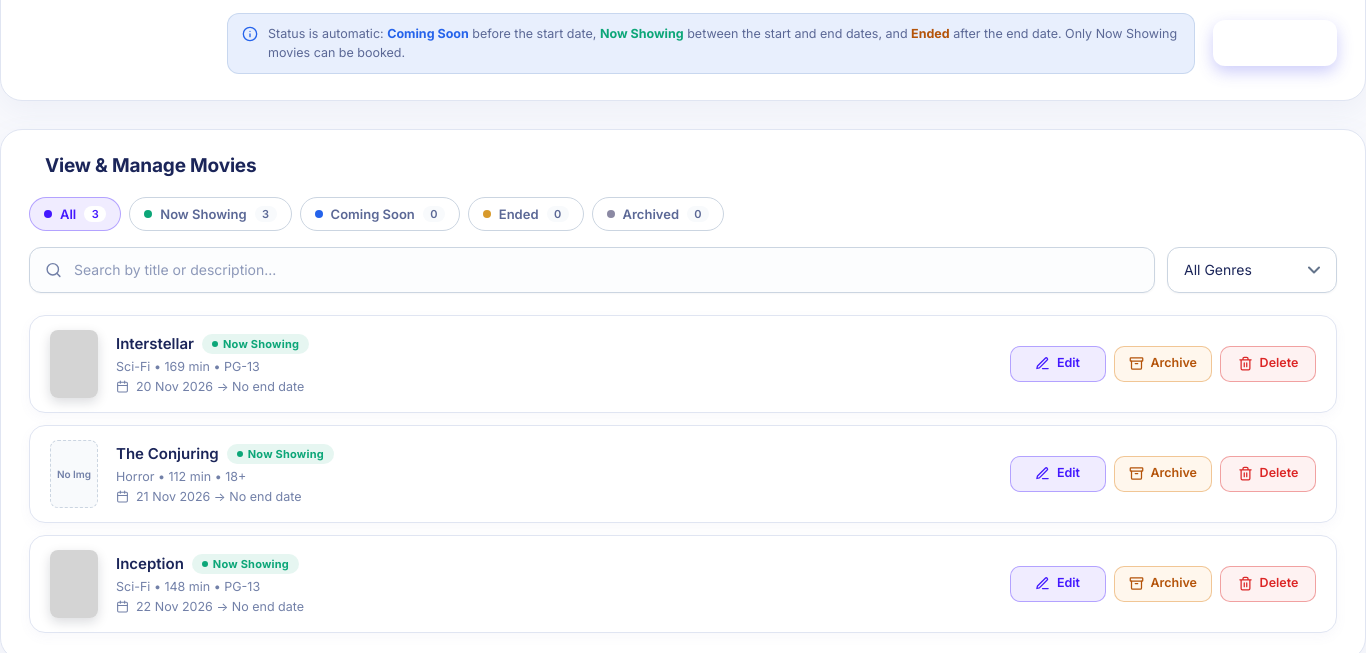
Admin Movies Page › should filter movies by description using the search field
The image size is (1366, 653).
(page scrolled)
Expected: the text "Interstellar" is shown, x1=116 y1=334 x2=194 y2=353
Type "supernatural" into the field with placeholder "Search by title or description..." at (592, 270), box x1=29 y1=247 x2=1155 y2=293
(page scrolled)
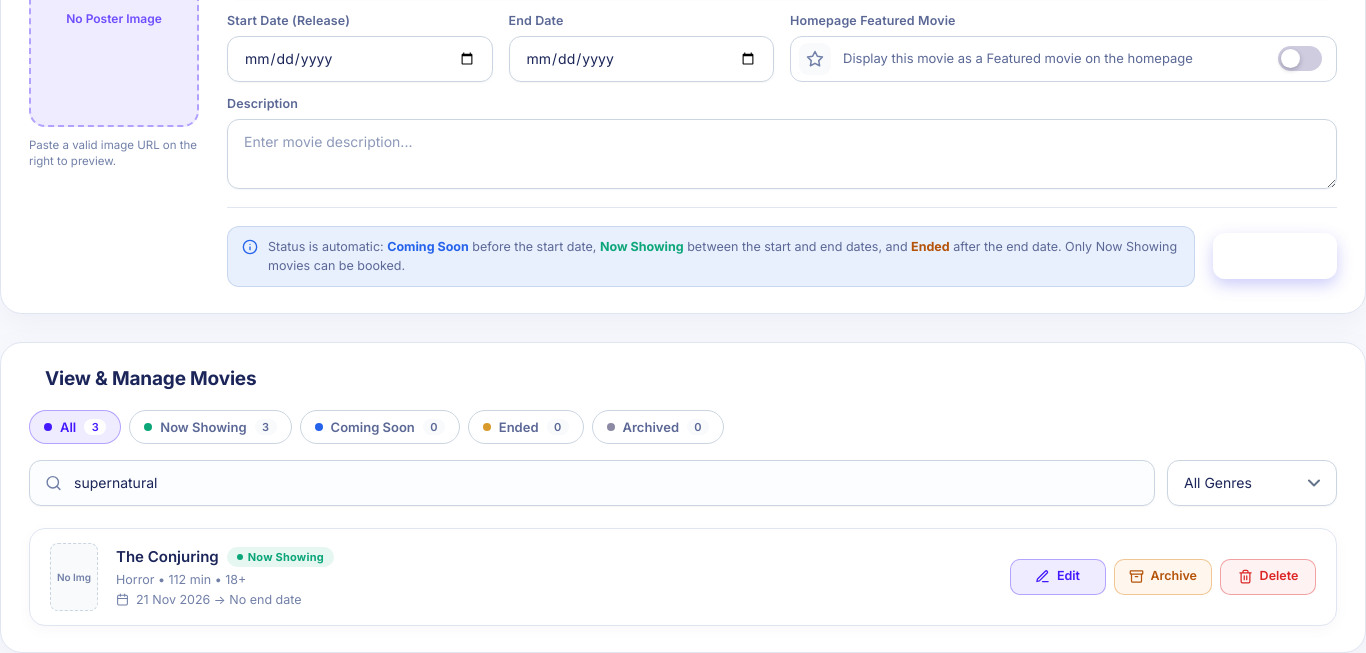
Expected: the text "The Conjuring" is shown, x1=116 y1=547 x2=219 y2=566
Now the text "Interstellar" is gone
